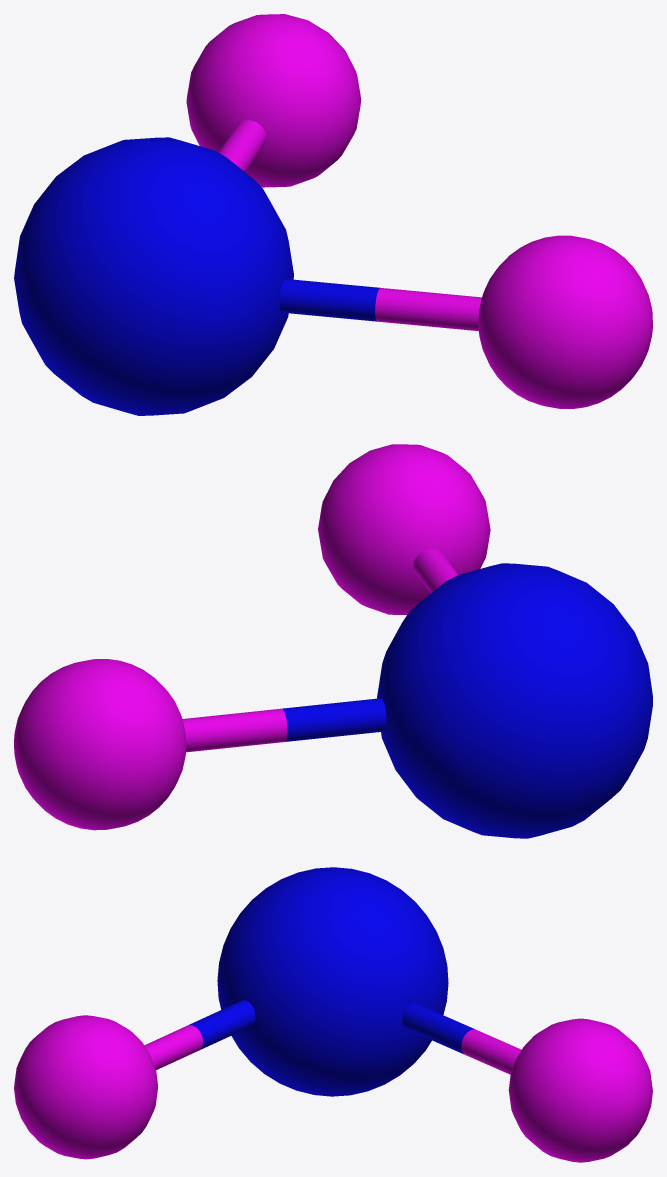
Rendered from CaCl2.fbx.
3 views of the same model, one above another, from view 1: azimuth 30°, elevation 25°; view 2: azimuth 150°, elevation 25°; view 3: azimuth 270°, elevation 25° (orthographic). The views are drawn at different scales.
Visible parts, largest first — view 1: CaCl2; view 2: CaCl2; view 3: CaCl2.
Part boxes in pixels (<box>): CaCl2: <box>14,14,652,415</box>; CaCl2: <box>14,444,652,838</box>; CaCl2: <box>14,867,652,1162</box>.
Size of the model in its own units: 5.14 by 2.67 by 7.39.
